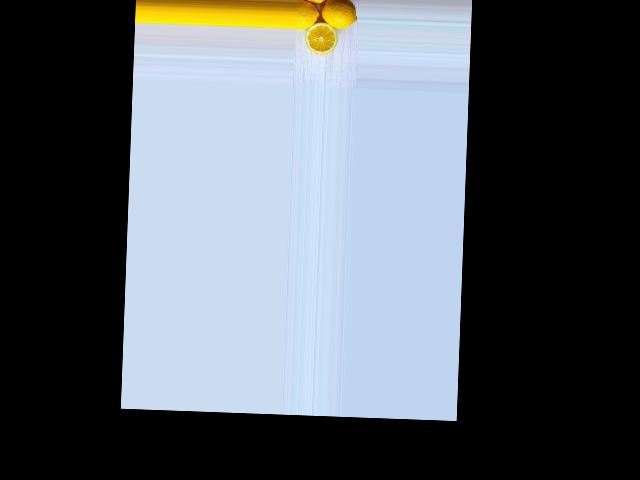lemon: (295, 1, 319, 29)
